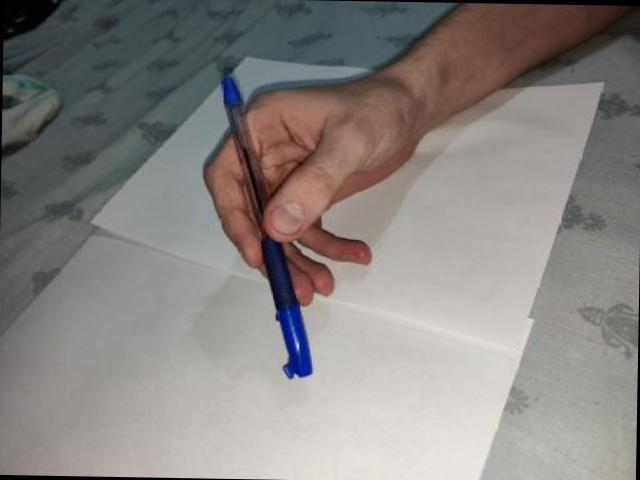PEN: (212, 63, 320, 385)
